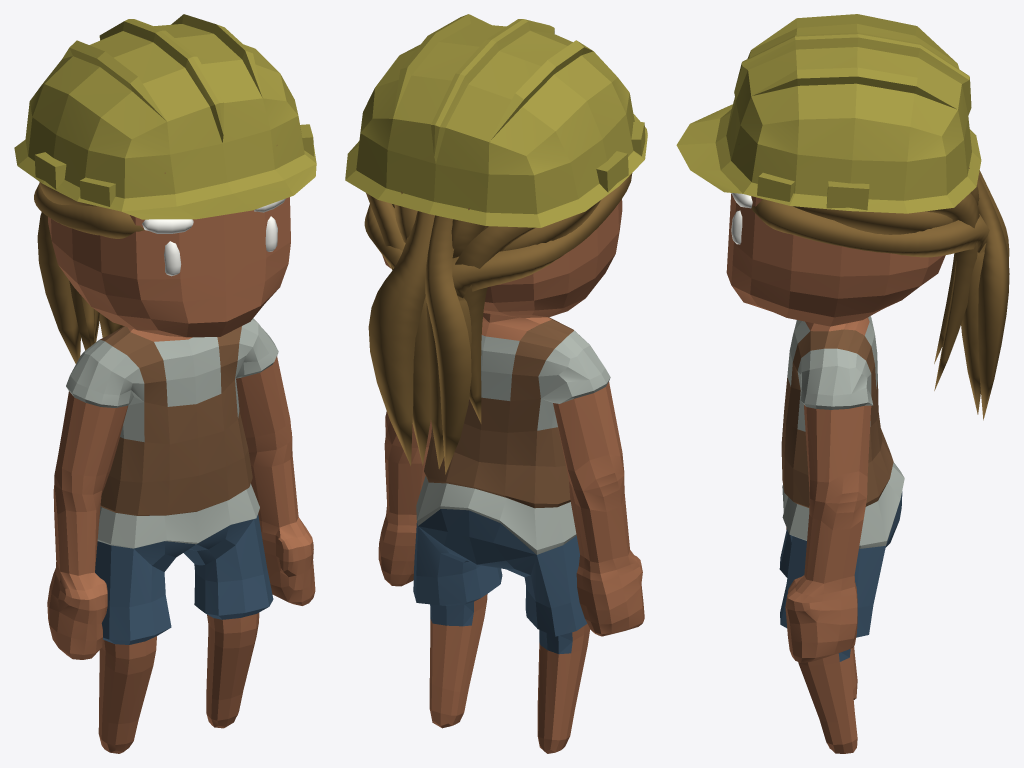
Rendered from debout-worker-female.glb.
The picture shows the model from 3 angles, left to right: view 1: azimuth 30°, elevation 25°; view 2: azimuth 150°, elevation 25°; view 3: azimuth 270°, elevation 25°; orthographic projection.
Parts seen in each view (by area): view 1: Cube004, Cube004_4, Cube004_2, Cube004_1, Cube004_3, Cube004_6, Cube004_5; view 2: Cube004_4, Cube004, Cube004_6, Cube004_3, Cube004_2, Cube004_1; view 3: Cube004_4, Cube004, Cube004_6, Cube004_1, Cube004_2, Cube004_3, Cube004_5.
Part boxes in pixels (x1,y1,x2,y2): Cube004: [47, 197, 315, 753]; Cube004_4: [14, 14, 316, 219]; Cube004_2: [99, 326, 252, 515]; Cube004_1: [66, 318, 278, 548]; Cube004_3: [95, 514, 273, 644]; Cube004_6: [34, 145, 277, 363]; Cube004_5: [142, 198, 285, 276]; Cube004_4: [345, 14, 647, 227]; Cube004: [378, 199, 644, 753]; Cube004_6: [364, 173, 632, 474]; Cube004_3: [413, 509, 587, 654]; Cube004_2: [424, 317, 573, 508]; Cube004_1: [416, 330, 610, 554]; Cube004_4: [676, 14, 981, 213]; Cube004: [726, 193, 945, 753]; Cube004_6: [738, 144, 1009, 420]; Cube004_1: [782, 316, 904, 548]; Cube004_2: [781, 329, 893, 507]; Cube004_3: [779, 491, 902, 661]; Cube004_5: [731, 193, 752, 244].
Bounding box in the file's own units: 0.6283 × 1.65 × 0.7161.
